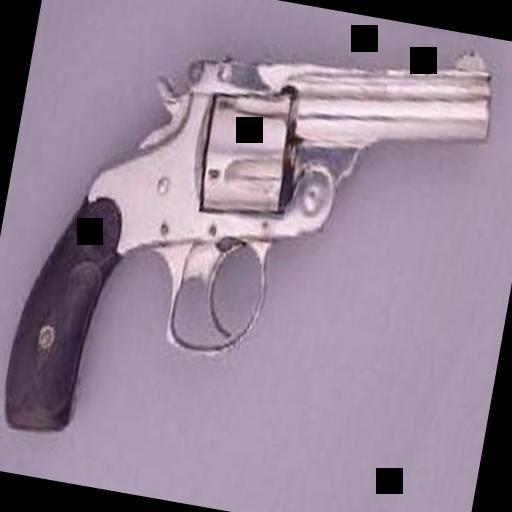Handgun: (0, 0, 504, 508)
